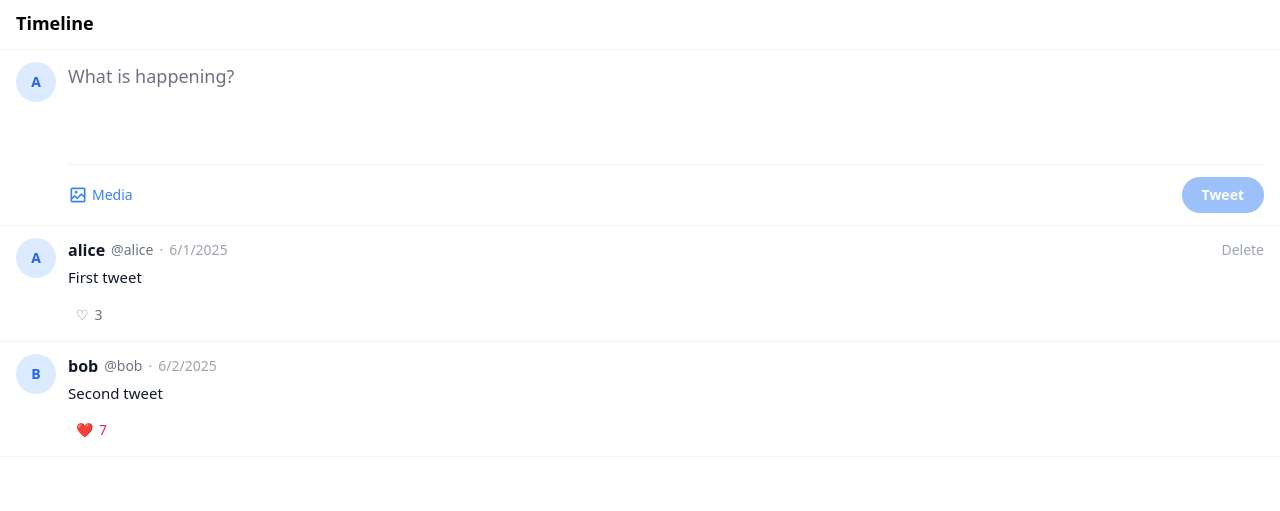
Test: TimelinePage › should show delete error when deletion fails
This screenshot has width=1280, height=511.
expect the text "First tweet" is shown: met, box left=68, top=267, right=142, bottom=287
Click the button with test id "delete-tweet-button" at (1243, 250), box left=1221, top=240, right=1264, bottom=260
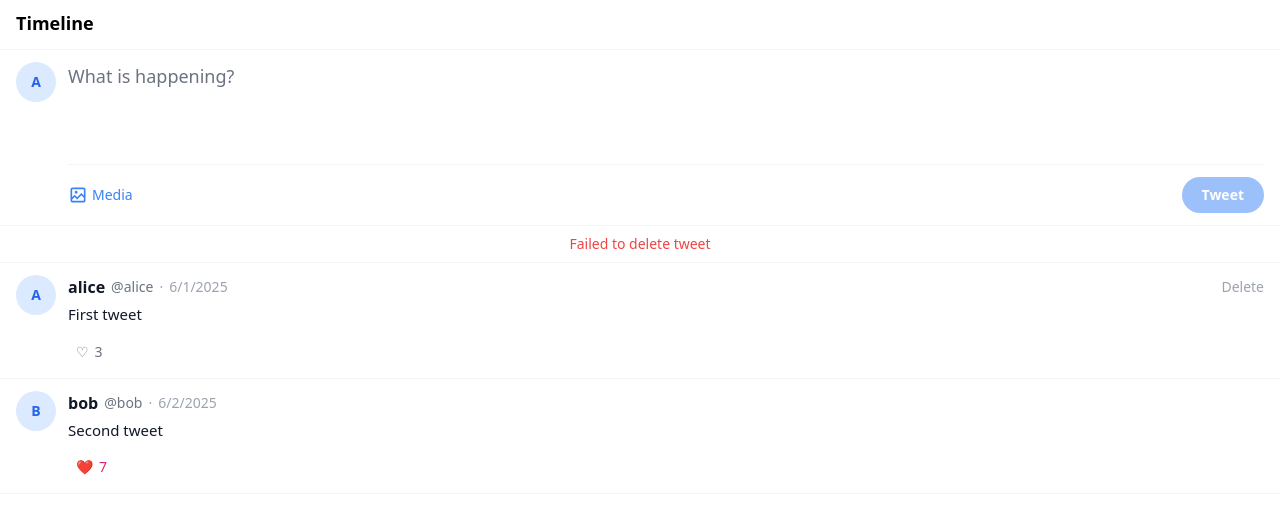
expect the text "Failed to delete tweet" is shown: met, box left=0, top=226, right=1279, bottom=263
